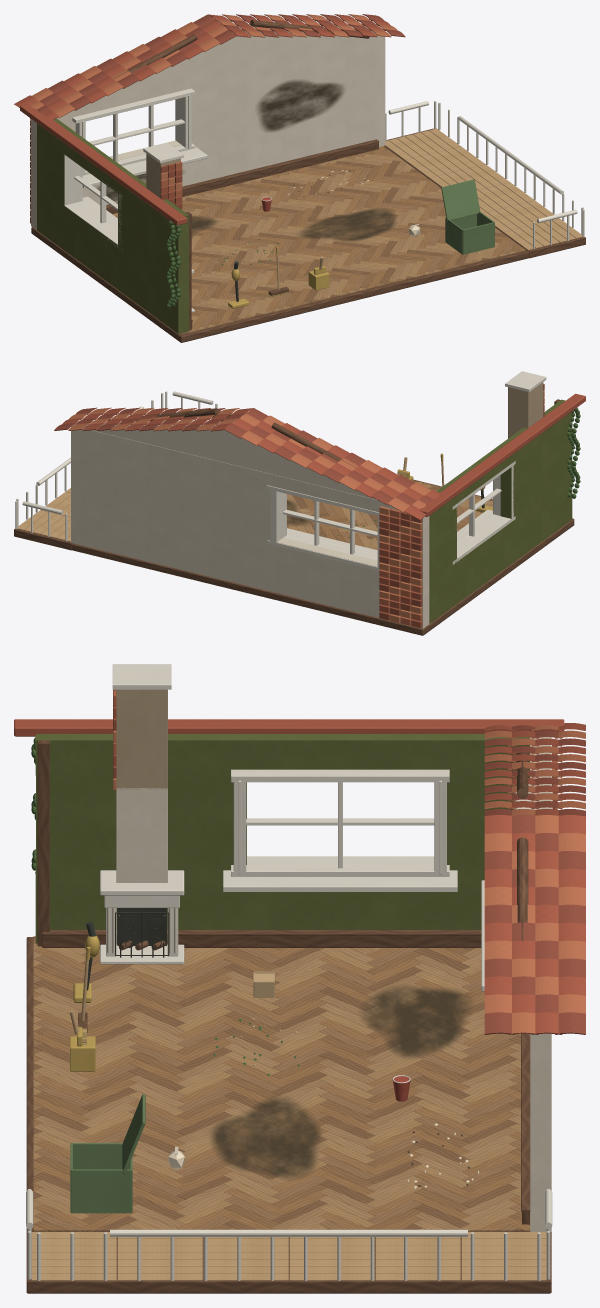
File: tidy-renovation.glb
3 views of the same model, one above another, from view 1: azimuth 30°, elevation 25°; view 2: azimuth 150°, elevation 25°; view 3: azimuth 270°, elevation 25° (orthographic). The views are drawn at different scales.
Parts seen in each view (by area): view 1: renovation_house_mesh, renovation_balcony_mesh, renovation_base_mesh, wall-1_mesh, clean_bin_mesh, dust-1_mesh; view 2: renovation_house_mesh, renovation_base_mesh, renovation_balcony_mesh; view 3: renovation_house_mesh, renovation_balcony_mesh, renovation_fireplace_mesh, dust-1_mesh, dust-0_mesh, clean_bin_mesh, renovation_base_mesh, clean_stand_mesh.
Part boxes in pixels (box(x1,y1,x2,y2)): renovation_house_mesh: box(14, 14, 525, 334); renovation_balcony_mesh: box(384, 101, 585, 258); renovation_base_mesh: box(31, 146, 528, 342); wall-1_mesh: box(257, 80, 344, 131); clean_bin_mesh: box(441, 179, 494, 254); dust-1_mesh: box(298, 208, 396, 241); renovation_house_mesh: box(54, 371, 585, 628); renovation_base_mesh: box(71, 479, 574, 635); renovation_balcony_mesh: box(14, 391, 217, 550); renovation_house_mesh: box(14, 664, 585, 1231); renovation_balcony_mesh: box(26, 1189, 552, 1293); renovation_fireplace_mesh: box(100, 870, 184, 964); dust-1_mesh: box(210, 1096, 321, 1179); dust-0_mesh: box(360, 985, 471, 1058); clean_bin_mesh: box(70, 1094, 145, 1213); renovation_base_mesh: box(26, 937, 551, 1233); clean_stand_mesh: box(70, 1036, 95, 1071).
Bounding box in the file's own units: 3.88 × 1.5 × 2.65.
Materials: 128 (127 with a texture image).
